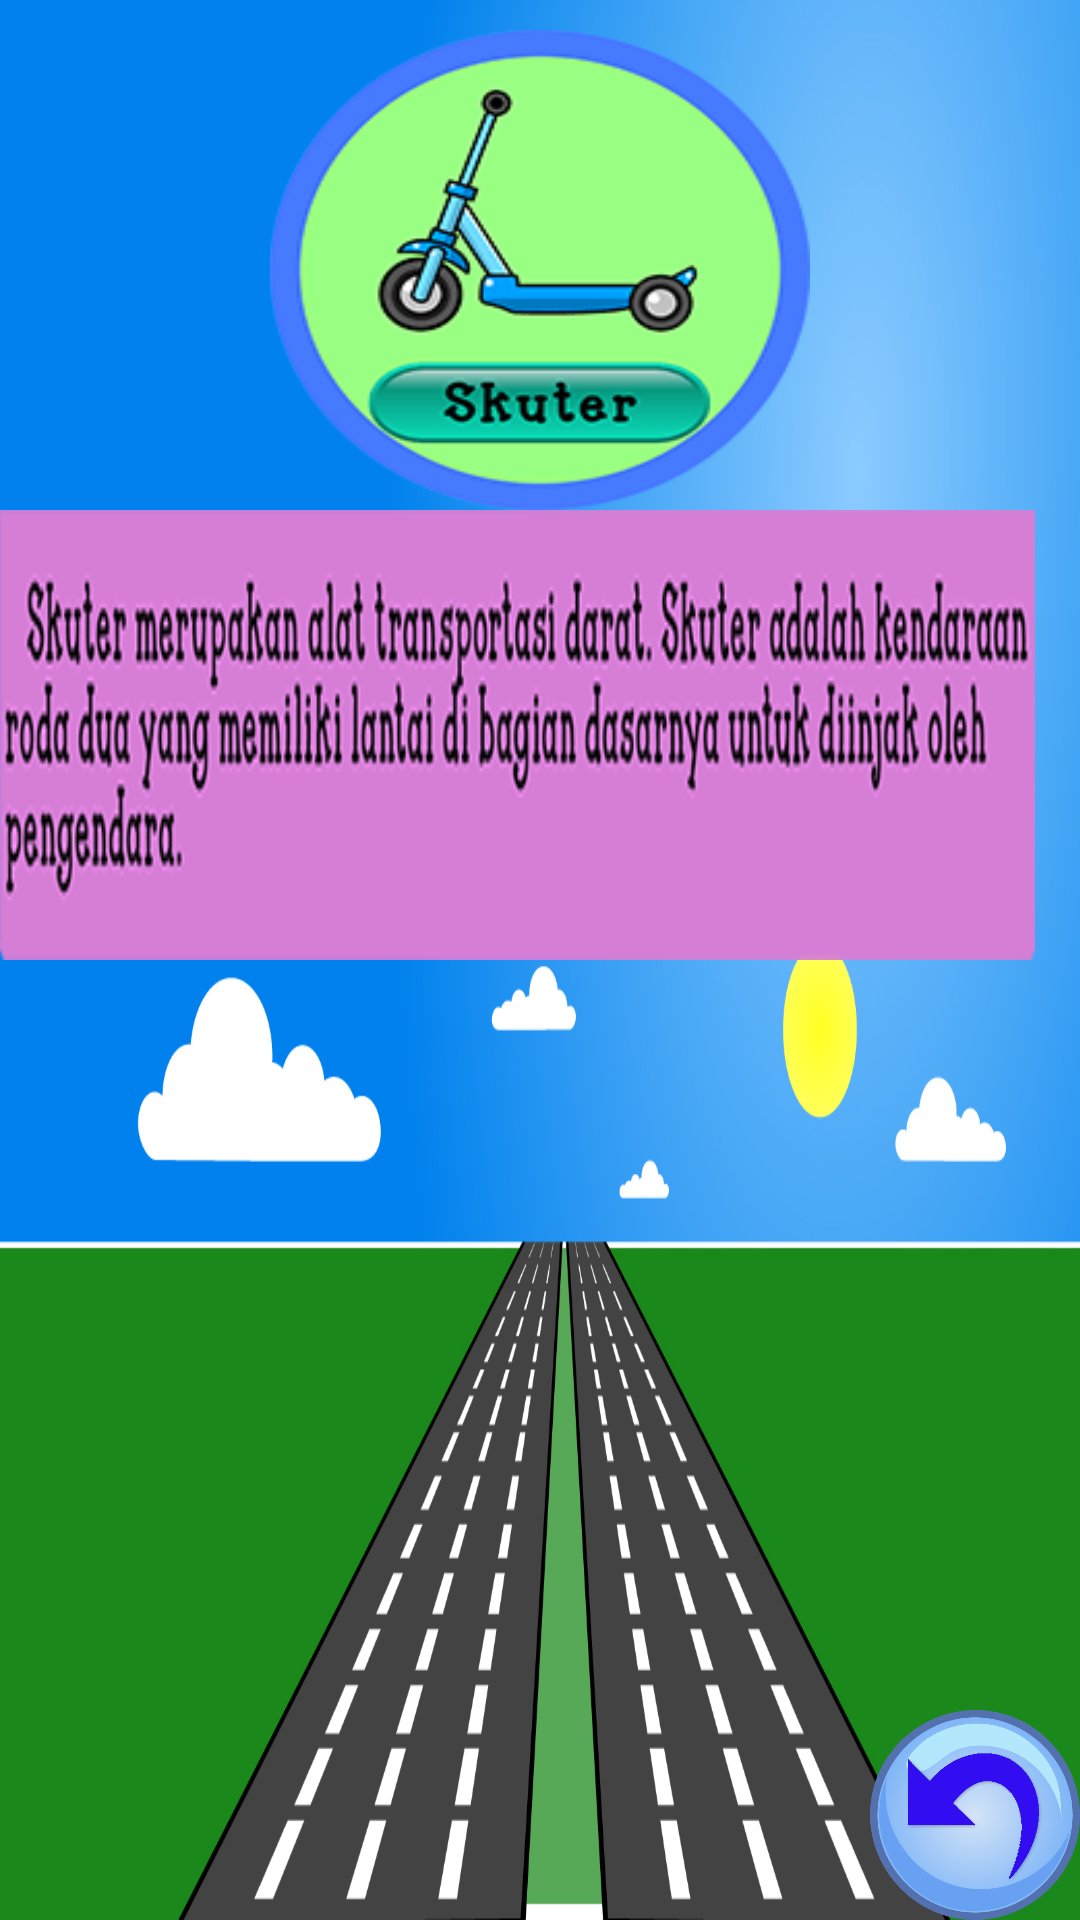

Named icons in this screenshot (1080 × 1920) and their bounding boxes, (x1, y1, x2, y2):
back: (870, 1710, 1080, 1920)
